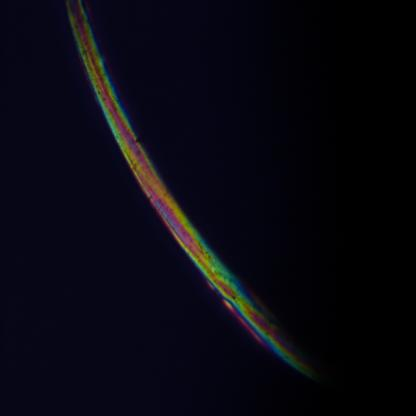Microfibre: (65, 1, 336, 383)
